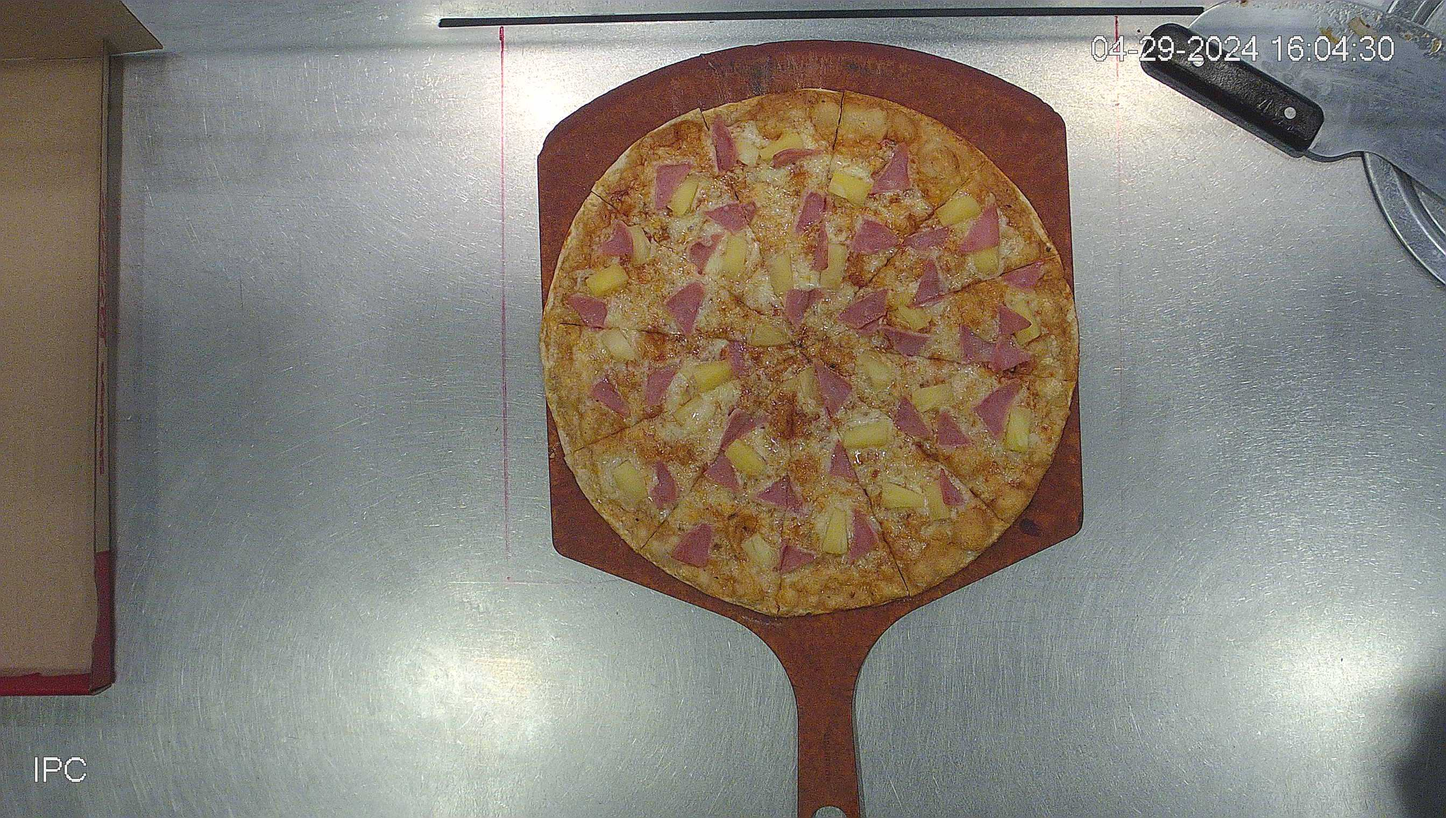manager_choice: (537, 88, 1079, 616)
